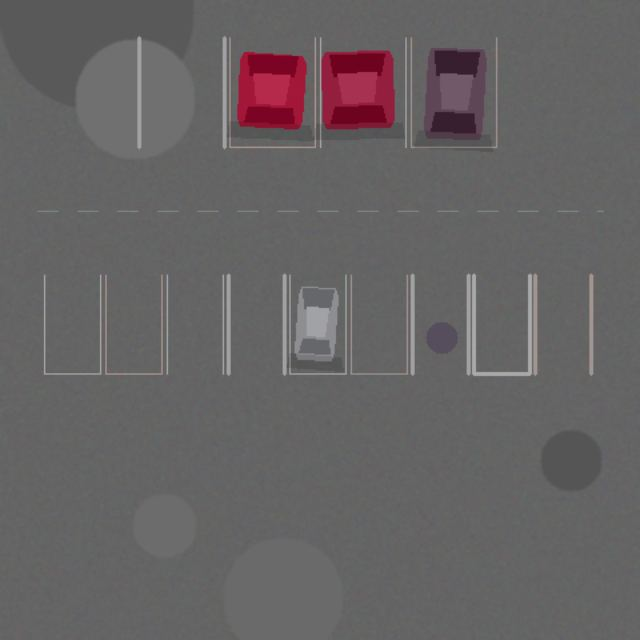space-empty: (139, 37, 224, 147), (44, 275, 100, 373), (105, 275, 161, 373), (167, 275, 223, 373), (228, 275, 284, 373), (351, 275, 407, 373), (412, 275, 468, 373), (473, 275, 529, 373), (535, 275, 591, 373)
space-occupied: (229, 37, 315, 147), (320, 37, 405, 147), (411, 37, 496, 147), (289, 275, 345, 373)
